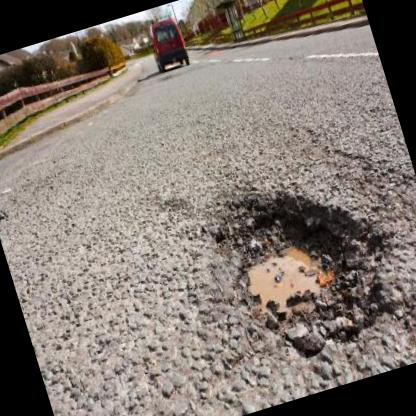pothole: (192, 158, 412, 384)
